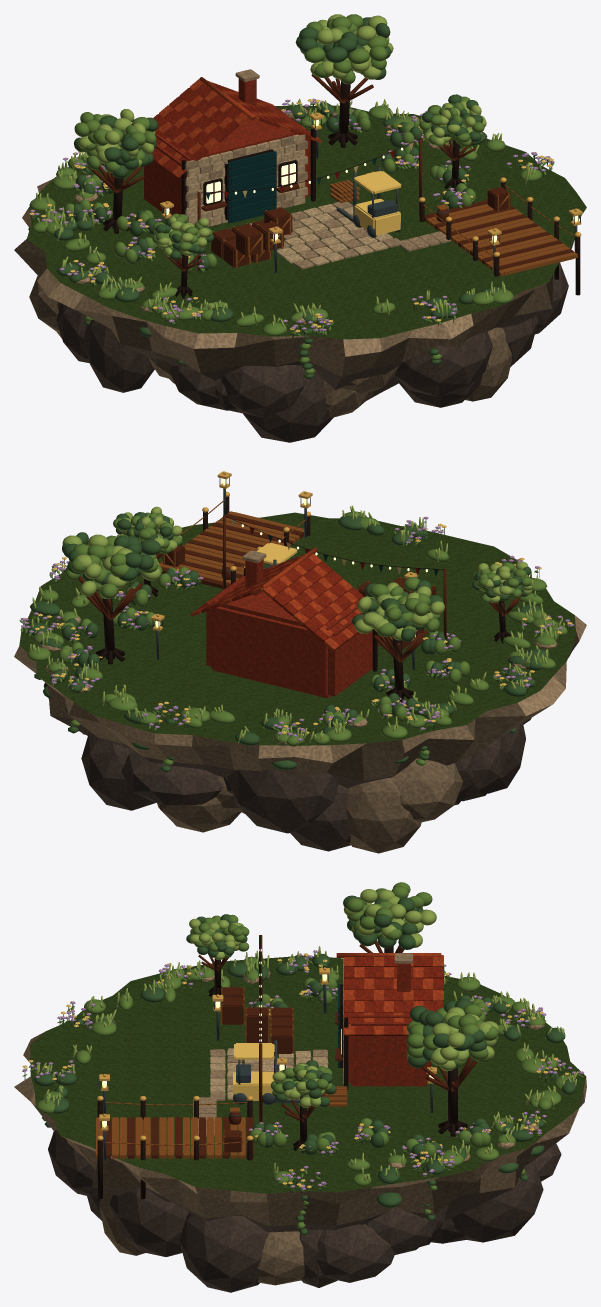
File: warehouse.glb
3 renders of one model, top to bottom at view 1: azimuth 30°, elevation 25°; view 2: azimuth 150°, elevation 25°; view 3: azimuth 270°, elevation 25°, orthographic.
Visible parts, largest first — view 1: GEO-warehouse-grass.001, GEO-warehouse-rock.001, GEO-warehouse-leaf.001, GEO-warehouse-rockLight.001, GEO-warehouse-leafDark.001, GEO-warehouse-stone.001, GEO-warehouse-leafLight.001, GEO-warehouse-wood.001, GEO-warehouse-stoneLight.001, GEO-warehouse-oak.001, GEO-warehouse-darkwood.001, GEO-warehouse-brick.001 (+8 smaller); view 2: GEO-warehouse-grass.001, GEO-warehouse-rockLight.001, GEO-warehouse-rock.001, GEO-warehouse-leaf.001, GEO-warehouse-leafDark.001, GEO-warehouse-brick.001, GEO-warehouse-leafLight.001, GEO-warehouse-stone.001, GEO-warehouse-wood.001, GEO-warehouse-tile.001, GEO-warehouse-oak.001, GEO-warehouse-tileLight.001 (+5 smaller); view 3: GEO-warehouse-grass.001, GEO-warehouse-rock.001, GEO-warehouse-leaf.001, GEO-warehouse-rockLight.001, GEO-warehouse-leafDark.001, GEO-warehouse-leafLight.001, GEO-warehouse-wood.001, GEO-warehouse-stone.001, GEO-warehouse-oak.001, GEO-warehouse-brick.001, GEO-warehouse-tile.001, GEO-warehouse-darkwood.001 (+6 smaller).
Boxes of the visible parts, x1,y1,x2,y2 form: GEO-warehouse-grass.001: [27, 105, 586, 339]; GEO-warehouse-rock.001: [56, 262, 568, 442]; GEO-warehouse-leaf.001: [29, 14, 554, 374]; GEO-warehouse-rockLight.001: [14, 186, 552, 417]; GEO-warehouse-leafDark.001: [28, 17, 551, 378]; GEO-warehouse-stone.001: [14, 69, 574, 356]; GEO-warehouse-leafLight.001: [36, 14, 535, 333]; GEO-warehouse-wood.001: [87, 70, 573, 271]; GEO-warehouse-stoneLight.001: [185, 134, 392, 265]; GEO-warehouse-oak.001: [212, 180, 577, 276]; GEO-warehouse-darkwood.001: [103, 81, 580, 298]; GEO-warehouse-brick.001: [144, 78, 310, 214]; GEO-warehouse-grass.001: [19, 512, 575, 745]; GEO-warehouse-rockLight.001: [14, 641, 578, 853]; GEO-warehouse-rock.001: [43, 682, 531, 851]; GEO-warehouse-leaf.001: [19, 511, 570, 765]; GEO-warehouse-leafDark.001: [23, 512, 571, 772]; GEO-warehouse-brick.001: [206, 559, 372, 698]; GEO-warehouse-leafLight.001: [29, 505, 564, 742]; GEO-warehouse-stone.001: [14, 549, 586, 762]; GEO-warehouse-wood.001: [78, 514, 521, 662]; GEO-warehouse-tile.001: [196, 556, 364, 646]; GEO-warehouse-oak.001: [159, 500, 435, 646]; GEO-warehouse-tileLight.001: [190, 547, 361, 650]; GEO-warehouse-grass.001: [30, 955, 585, 1193]; GEO-warehouse-rock.001: [48, 1130, 561, 1292]; GEO-warehouse-leaf.001: [22, 882, 584, 1228]; GEO-warehouse-rockLight.001: [32, 1103, 568, 1285]; GEO-warehouse-leafDark.001: [24, 895, 581, 1235]; GEO-warehouse-leafLight.001: [36, 889, 577, 1181]; GEO-warehouse-wood.001: [106, 935, 476, 1158]; GEO-warehouse-stone.001: [14, 953, 586, 1204]; GEO-warehouse-oak.001: [96, 987, 347, 1158]; GEO-warehouse-brick.001: [348, 963, 431, 1086]; GEO-warehouse-tile.001: [344, 957, 443, 1035]; GEO-warehouse-darkwood.001: [97, 935, 467, 1199].
Size of the model in its own units: 27.27 by 15.06 by 26.8.
22 materials, 14 textured.
